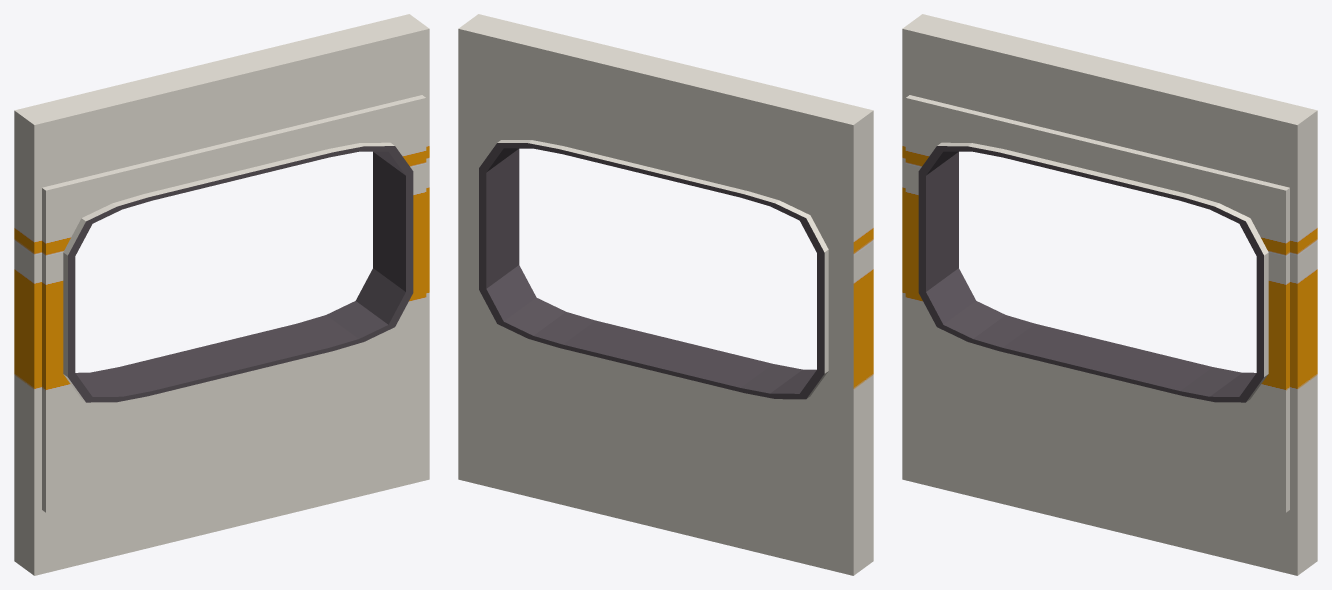
File: wallwindow.fbx
3 renders of one model, left to right at view 1: azimuth 30°, elevation 25°; view 2: azimuth 150°, elevation 25°; view 3: azimuth 330°, elevation 25°, orthographic.
Visible parts, largest first — view 1: WallWindow; view 2: WallWindow; view 3: WallWindow.
Boxes of the visible parts, left/top/right/bottom form: WallWindow: left=14, top=14, right=429, bottom=575; WallWindow: left=458, top=14, right=873, bottom=575; WallWindow: left=902, top=14, right=1317, bottom=575.
Size of the model in its own units: 426 by 465 by 61.42.
